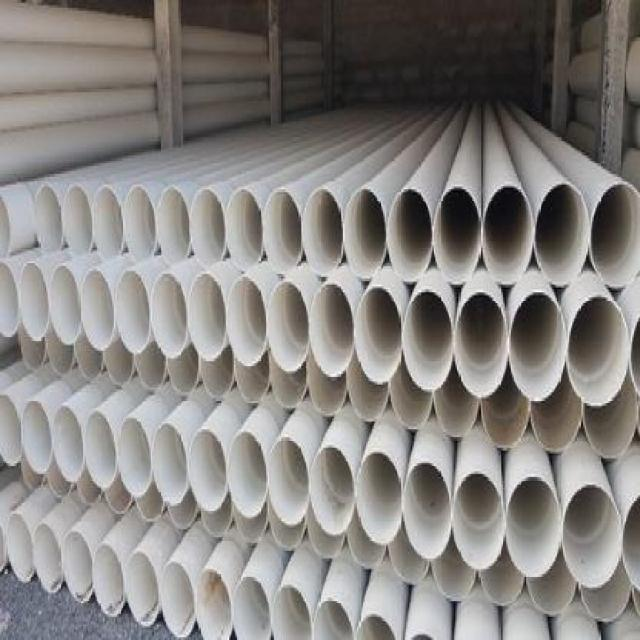pipe: (568, 294, 630, 405), (562, 485, 624, 590), (509, 293, 566, 402), (454, 292, 510, 400), (505, 476, 562, 579), (534, 183, 590, 286), (401, 288, 454, 393), (589, 182, 640, 290), (481, 185, 534, 287), (454, 471, 505, 571), (434, 186, 482, 286), (405, 460, 453, 559), (355, 286, 403, 383), (355, 451, 403, 547), (388, 186, 434, 282), (309, 281, 354, 377), (266, 280, 311, 374), (311, 445, 354, 538), (343, 188, 386, 281), (266, 437, 309, 526), (186, 273, 228, 362), (228, 277, 268, 368), (303, 188, 343, 279), (228, 431, 268, 519), (151, 271, 190, 359), (263, 188, 302, 274), (189, 428, 228, 513), (151, 423, 188, 508), (115, 269, 151, 354), (160, 559, 197, 639), (226, 188, 263, 268), (117, 415, 153, 497), (191, 188, 226, 268), (82, 268, 116, 350), (195, 566, 234, 637), (85, 411, 119, 488), (126, 549, 160, 626), (125, 185, 159, 262), (51, 263, 82, 345), (157, 186, 190, 263), (233, 576, 273, 639), (92, 541, 125, 617), (271, 583, 314, 639), (94, 185, 125, 262), (22, 398, 53, 474), (20, 262, 49, 342), (63, 531, 94, 605), (63, 183, 94, 257), (54, 405, 83, 483), (34, 522, 63, 593), (34, 183, 63, 252), (6, 512, 34, 583), (312, 596, 357, 639), (0, 392, 23, 468), (0, 261, 18, 338)
